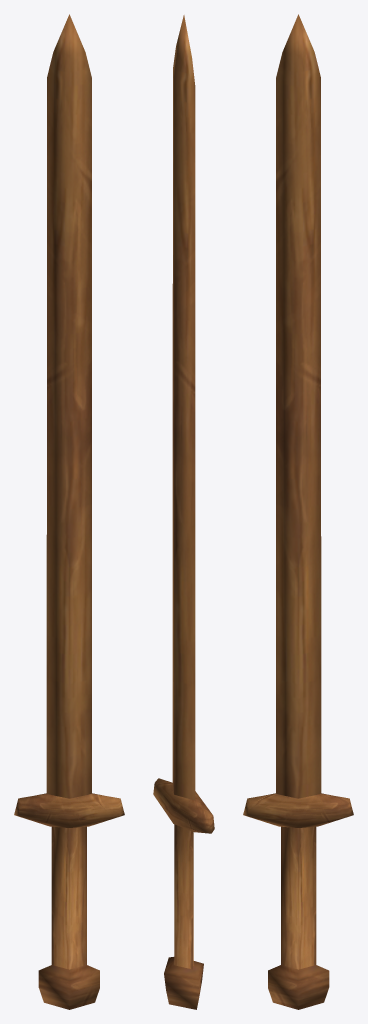
File: Wooden sword.FBX
3 views of the same model, side by side, from view 1: azimuth 90°, elevation 25°; view 2: azimuth 210°, elevation 25°; view 3: azimuth 270°, elevation 25° (orthographic).
Visible parts, largest first — view 1: Wooden sword; view 2: Wooden sword; view 3: Wooden sword.
Boxes of the visible parts, box(x1,y1,x2,y2) form: Wooden sword: box(14, 14, 124, 1009); Wooden sword: box(153, 15, 214, 1009); Wooden sword: box(243, 14, 353, 1009).
Bounding box in the file's own units: 0.0645 × 1.53 × 0.154.
